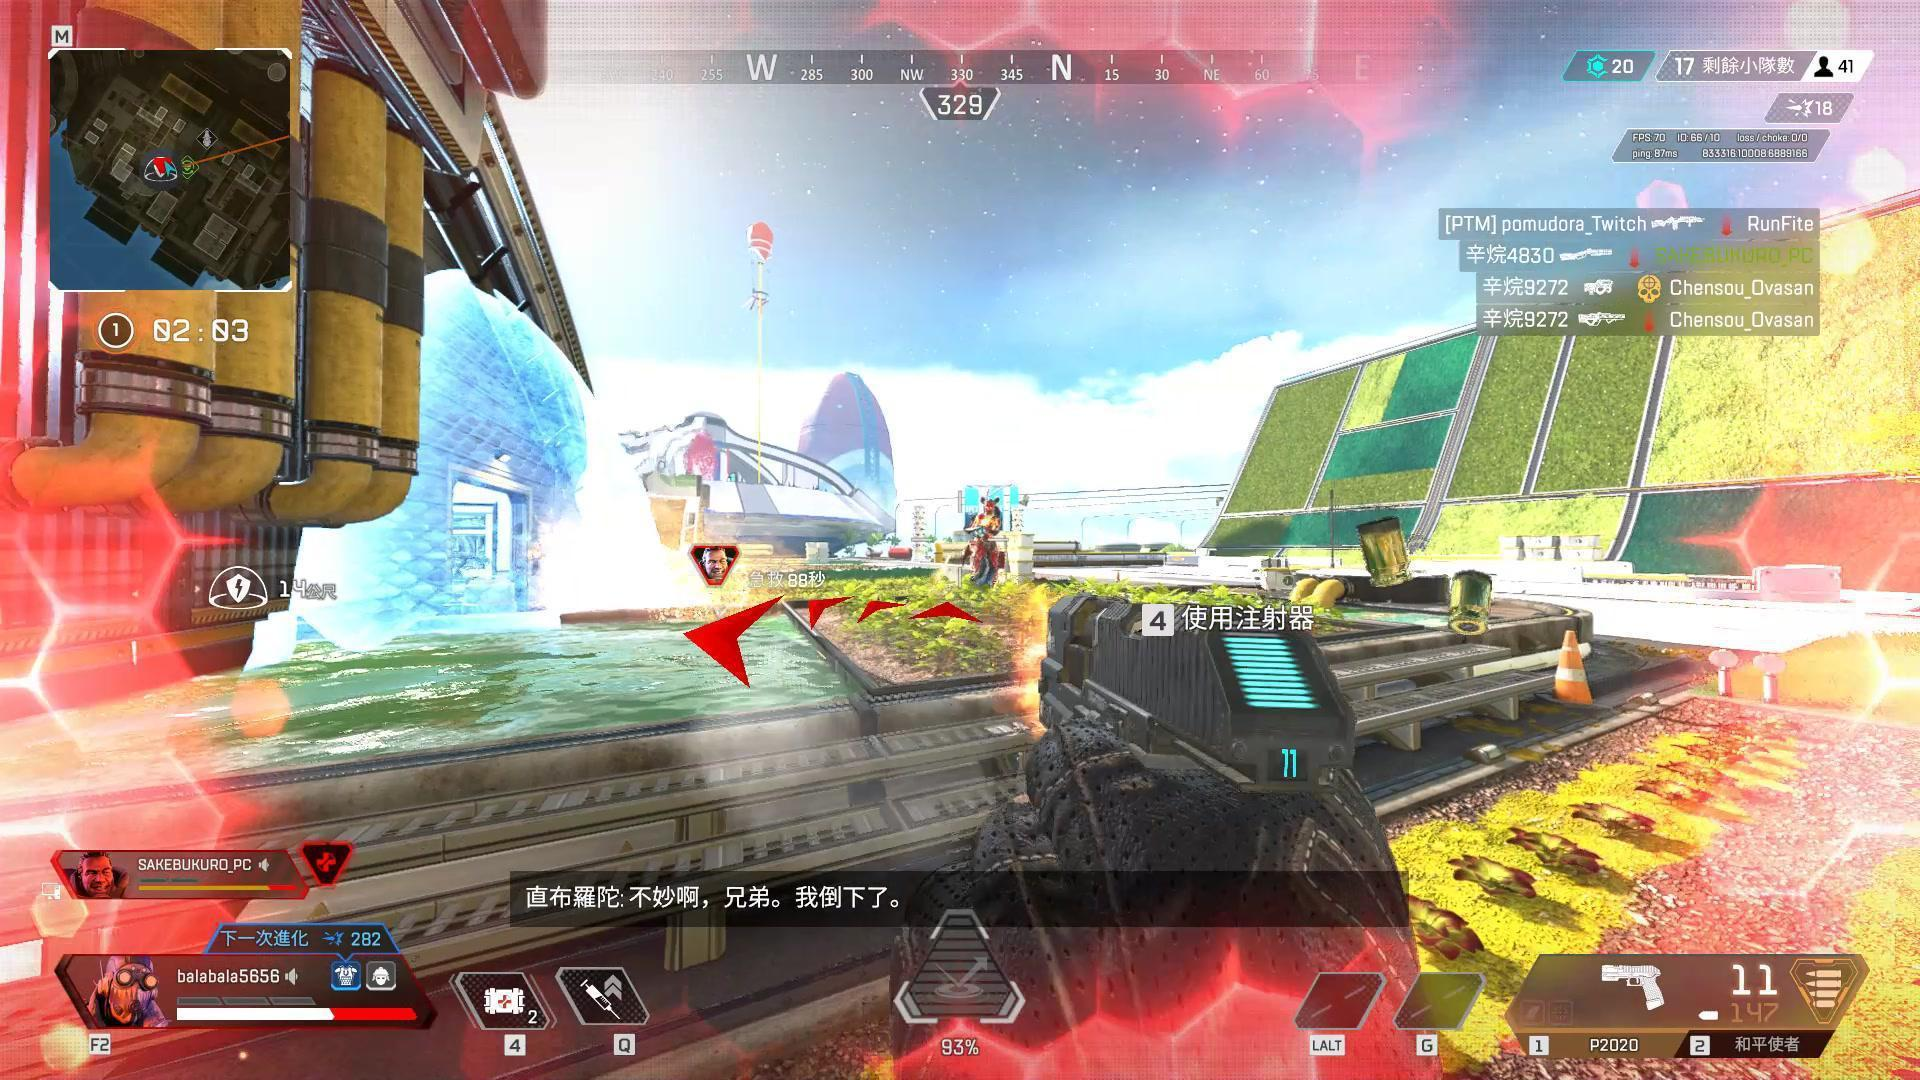avatar: (957, 493, 1005, 598)
